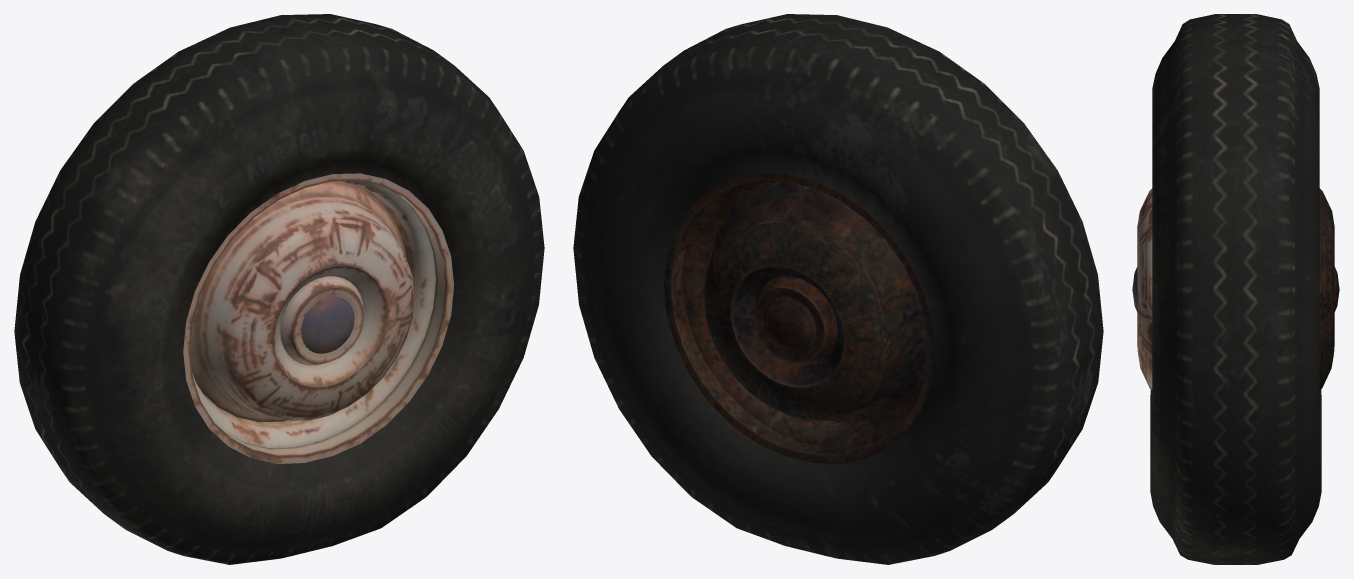
Rendered from F100_1967_WheelRear.glb.
3 renders of one model, left to right at view 1: azimuth 30°, elevation 25°; view 2: azimuth 150°, elevation 25°; view 3: azimuth 270°, elevation 25°, orthographic. The views are drawn at different scales.
Parts seen in each view (by area): view 1: F100_WheelRL; view 2: F100_WheelRL; view 3: F100_WheelRL.
Boxes of the visible parts, bbox=[...] form: F100_WheelRL: bbox=[14, 14, 544, 564]; F100_WheelRL: bbox=[573, 14, 1103, 564]; F100_WheelRL: bbox=[1132, 14, 1339, 564].
Size of the model in its own units: 47.55 by 46.6 by 17.8.
1 material, 1 textured.
